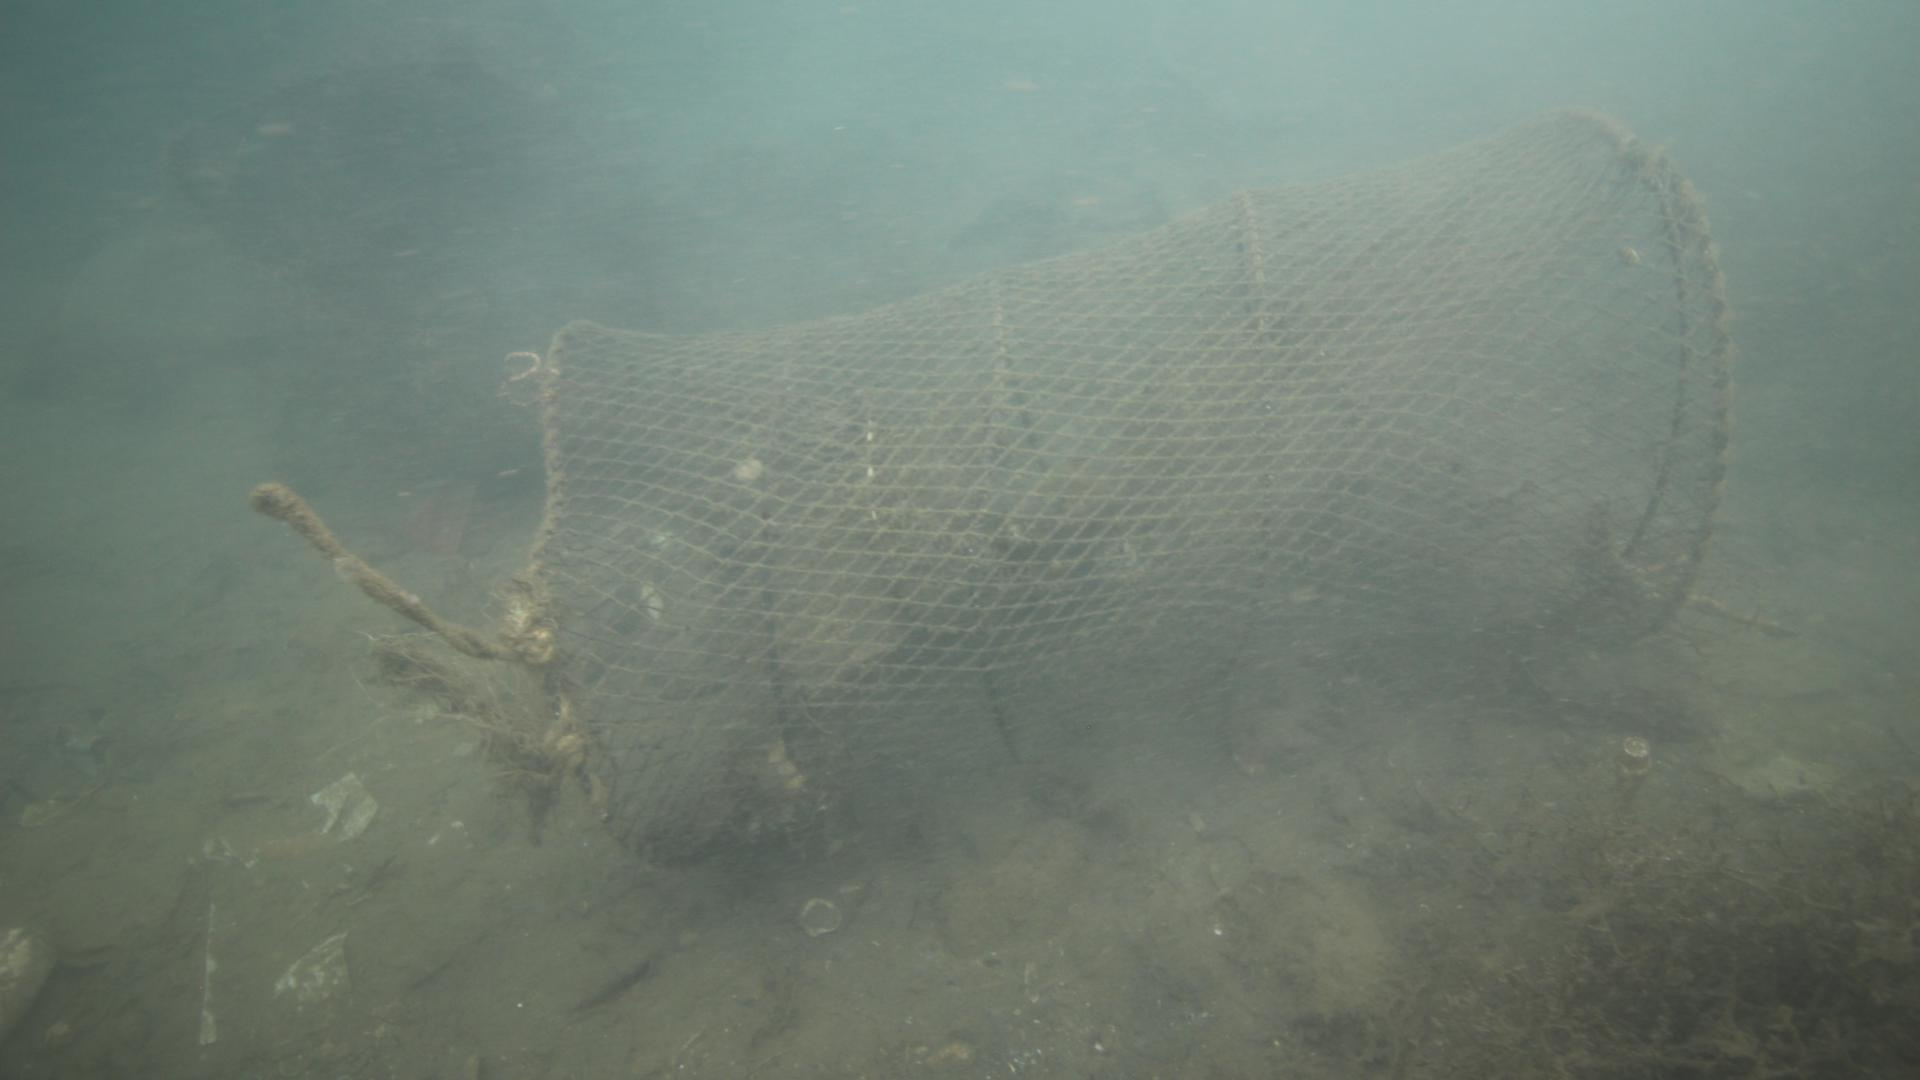rope: (255, 485, 513, 658)
spring fish trap: (512, 108, 1733, 872)
